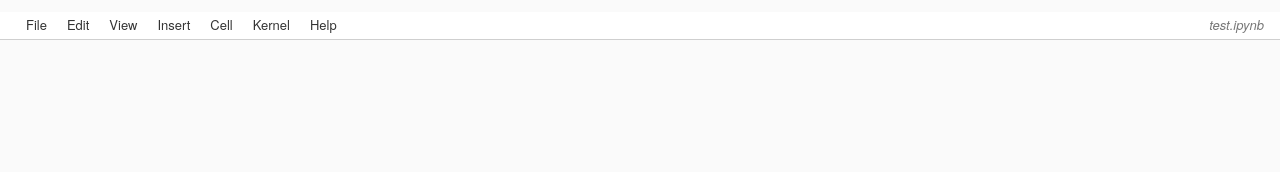
Test case: MenuBar › opens Insert dropdown
The width and height of the screenshot is (1280, 172).
Click the text "Insert" at point(174, 24), box [157, 15, 190, 34]
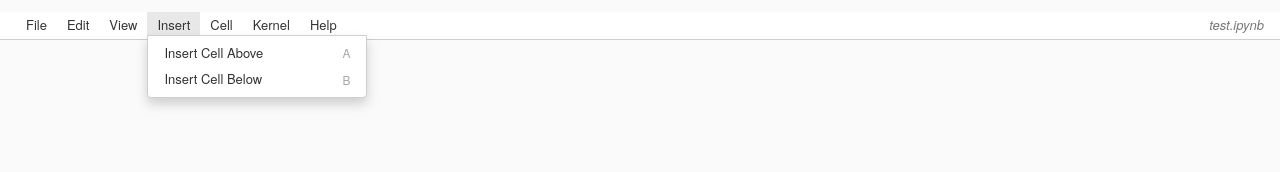
Now the text "Insert Cell Above" is shown, box [164, 44, 263, 62]
Now the text "Insert Cell Below" is shown, box [164, 70, 262, 89]
